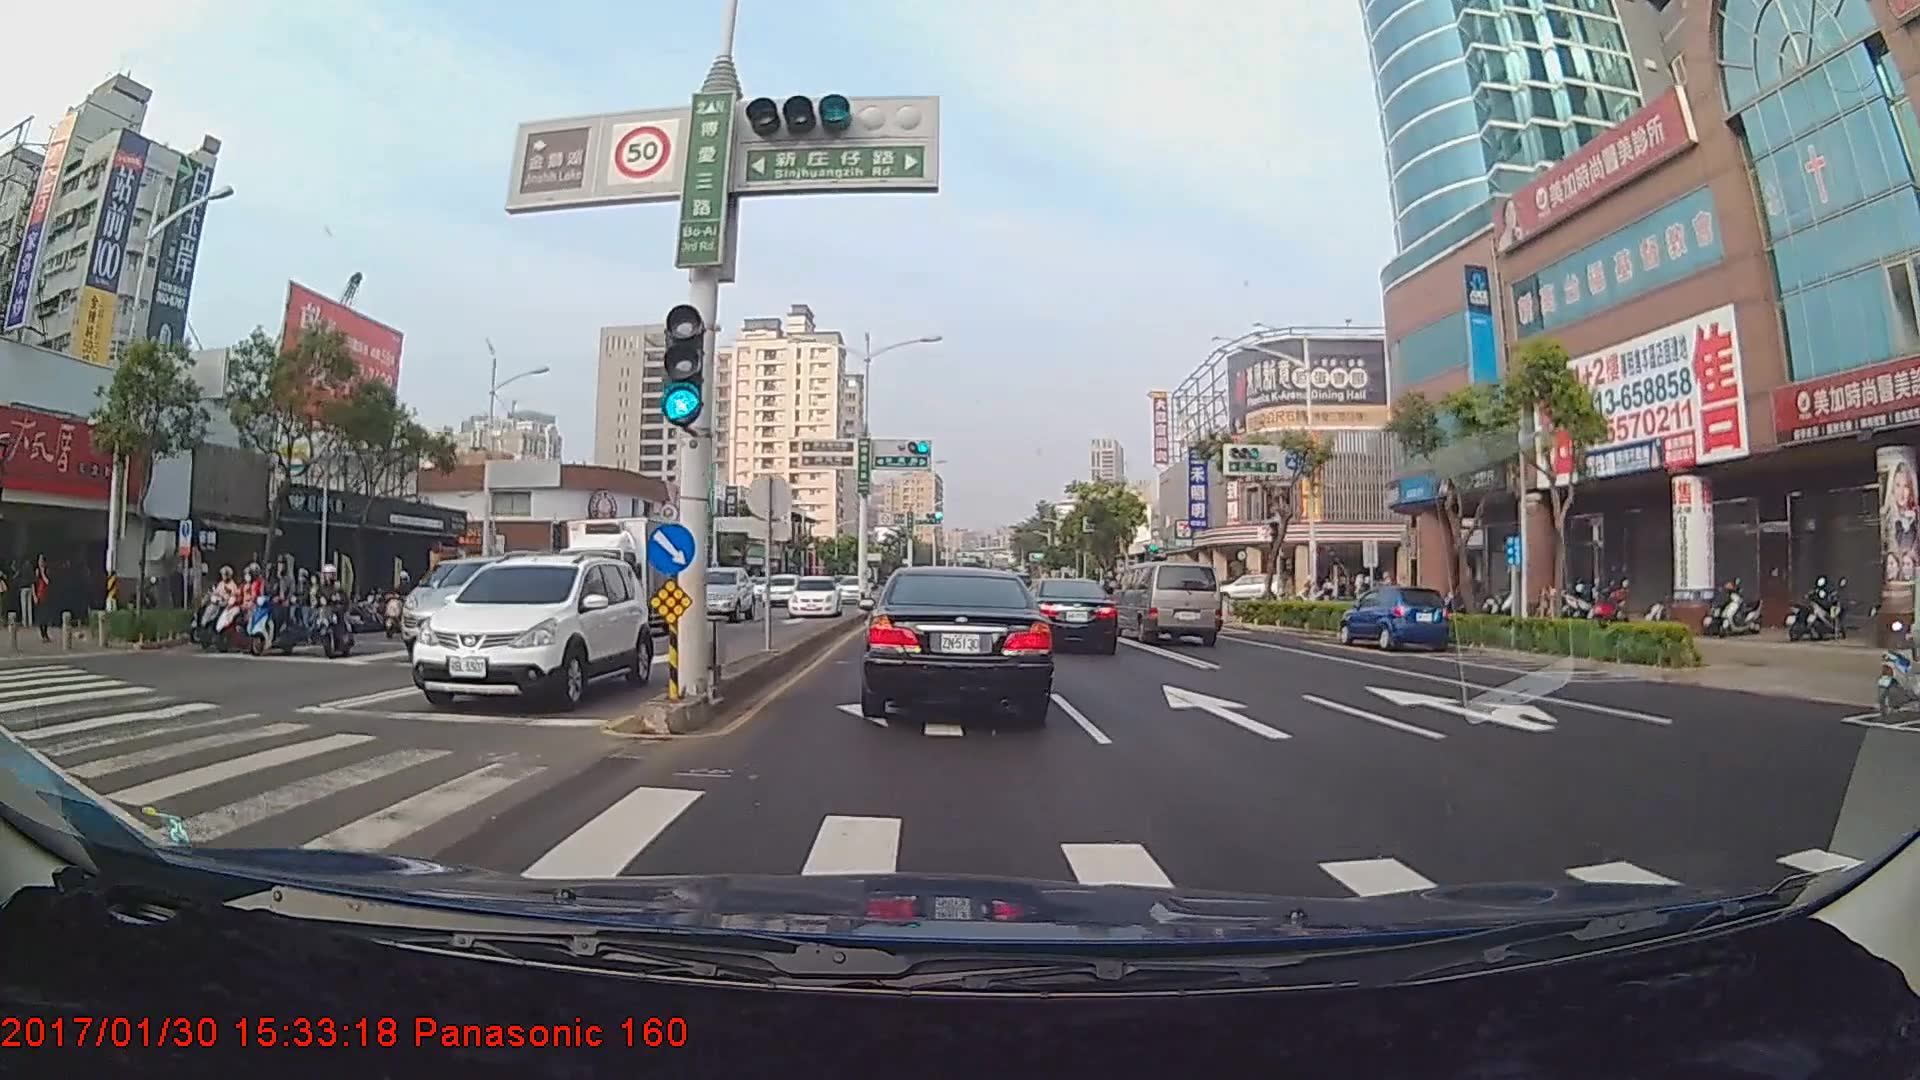pedestrian: (32, 553, 56, 647)
rider: (243, 561, 322, 652), (303, 558, 367, 667), (212, 561, 286, 651), (191, 564, 255, 650)
vehicle: (414, 551, 647, 708), (862, 561, 1052, 722), (549, 513, 695, 652), (411, 550, 562, 662), (1119, 561, 1222, 647), (1017, 571, 1118, 653), (1341, 584, 1449, 652), (683, 562, 752, 620), (784, 574, 840, 617), (1220, 572, 1282, 601), (761, 574, 799, 605), (835, 576, 867, 605)
